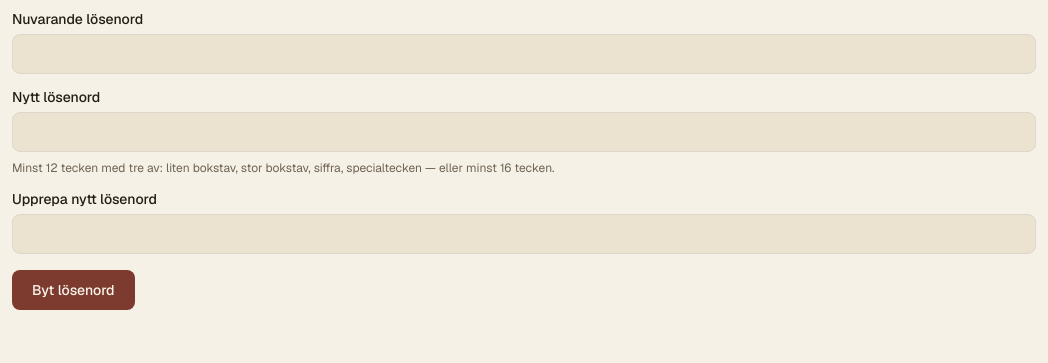
Test: ChangePasswordForm — klientvalidering speglar serverns policy › olika lösenord i upprepningen stoppas
In the password field labelled "Nuvarande lösenord": (524, 54) [12,34,1036,74], type "gammalt"
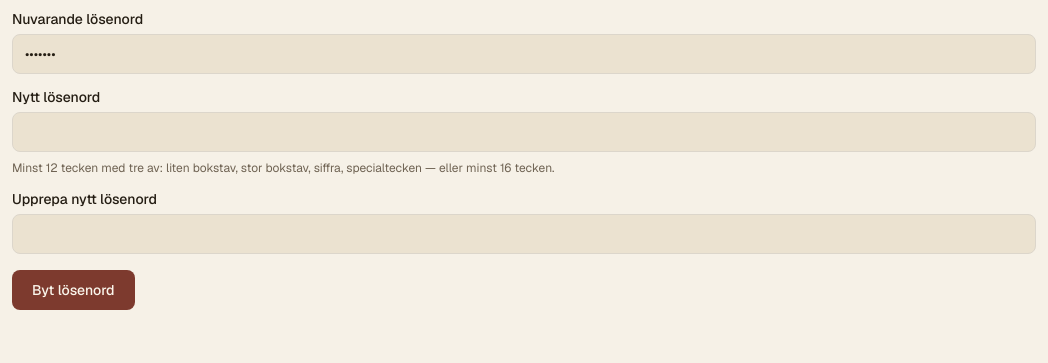
In the password field labelled "Nytt lösenord": (524, 132) [12,112,1036,152], type "Blandat1Lösen!"
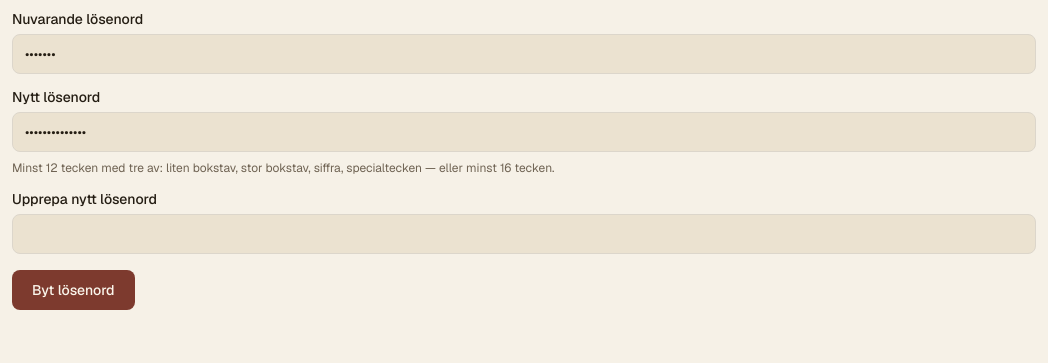
In the password field labelled "Upprepa nytt lösenord": (524, 234) [12,214,1036,254], type "Blandat1Lösen?"
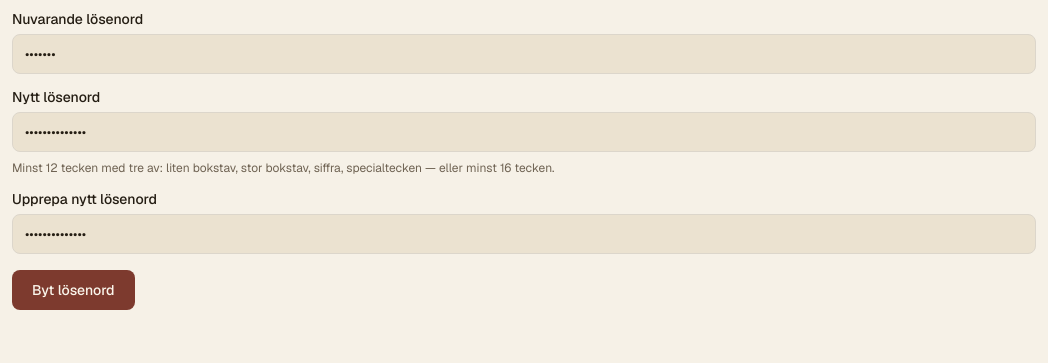
Click the button "Byt lösenord": (73, 290) [12,270,135,310]
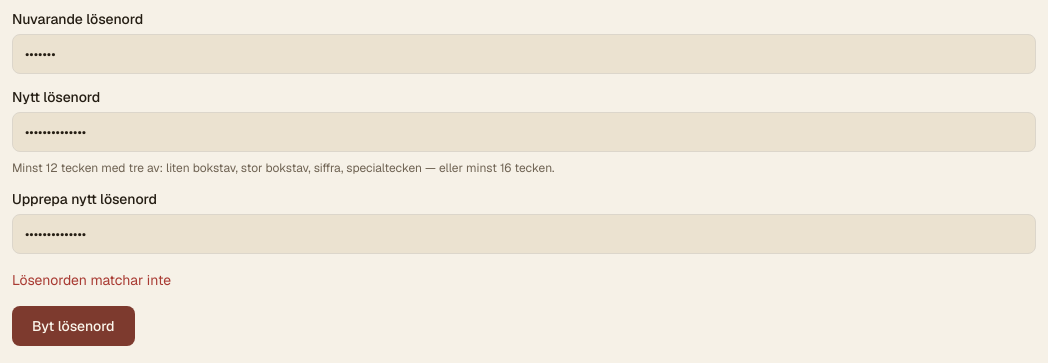
expect the message reads "Lösenorden matchar inte": met, box [12,271,171,289]
